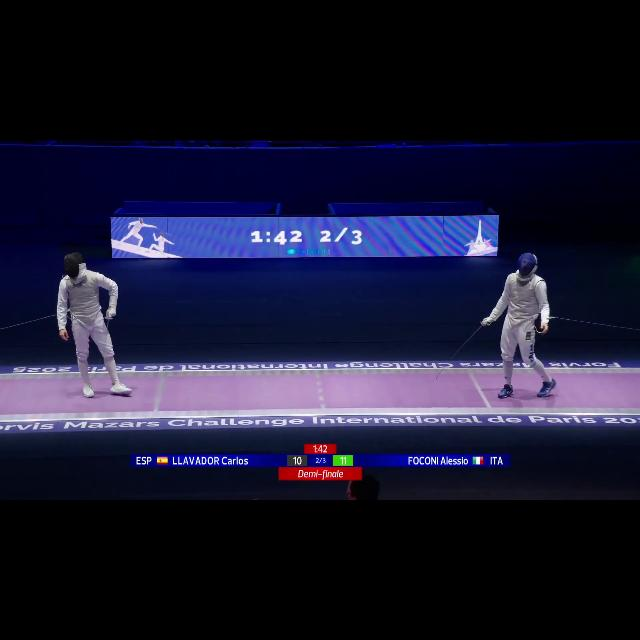blade: (434, 318, 488, 392), (101, 313, 117, 357)
